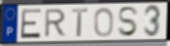3: (143, 3, 162, 40)
E: (19, 7, 43, 40)
O: (93, 7, 115, 38)
R: (43, 8, 68, 39)
S: (117, 6, 140, 38)
T: (71, 7, 90, 38)
